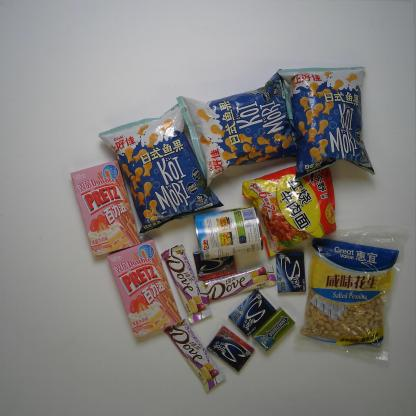Canned Food: (194, 204, 264, 260)
Chocolate: (162, 317, 226, 394), (160, 243, 213, 324), (196, 258, 278, 308)
Dessert: (107, 238, 182, 338), (70, 159, 142, 257)
Dried Fruit: (295, 226, 406, 361)
Gum: (228, 288, 275, 338), (208, 325, 254, 375), (251, 306, 296, 353), (271, 248, 306, 296), (193, 245, 239, 280)
Instant Noodles: (246, 161, 347, 258)
Puffed Food: (98, 98, 224, 236), (176, 70, 302, 186), (276, 66, 376, 183)
